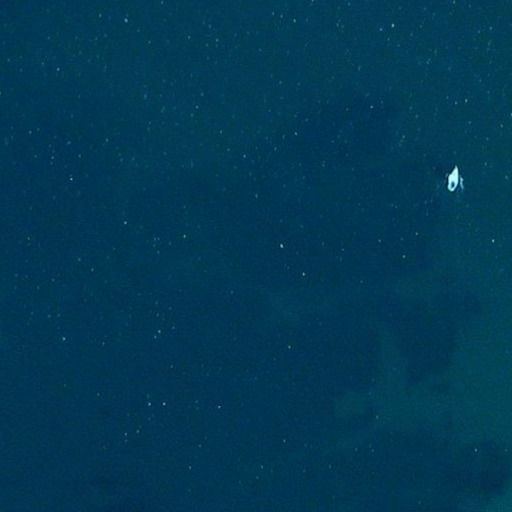ship: (443, 163, 464, 195)
